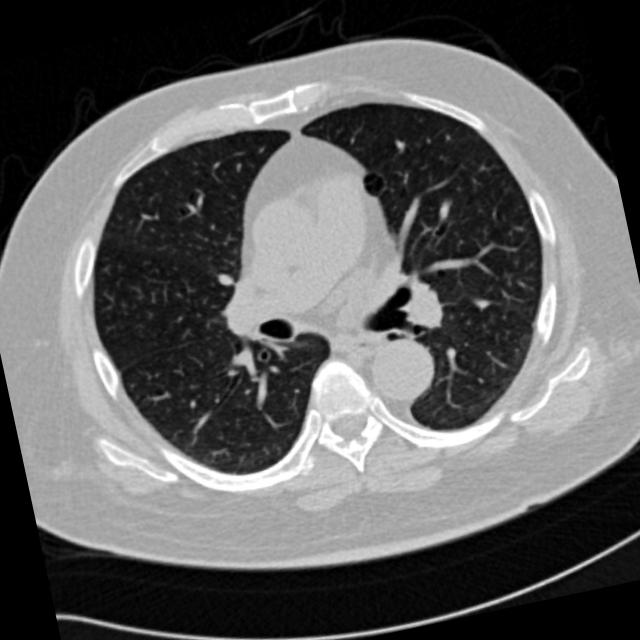nodule: (464, 286, 496, 319)
